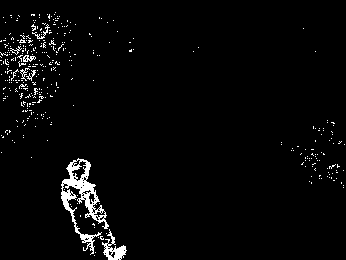person: (58, 154, 132, 257)
